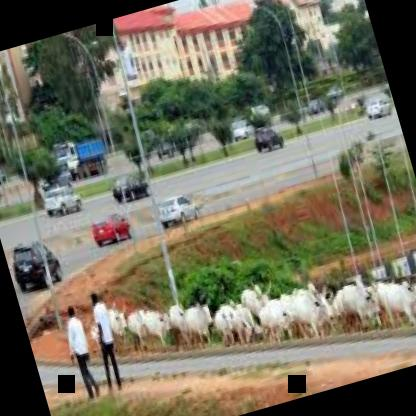car: (46, 121, 123, 194), (2, 225, 70, 301), (150, 182, 204, 235), (89, 201, 140, 256), (47, 177, 92, 225), (107, 167, 159, 207), (250, 116, 288, 163), (364, 85, 396, 134), (224, 114, 256, 156)
